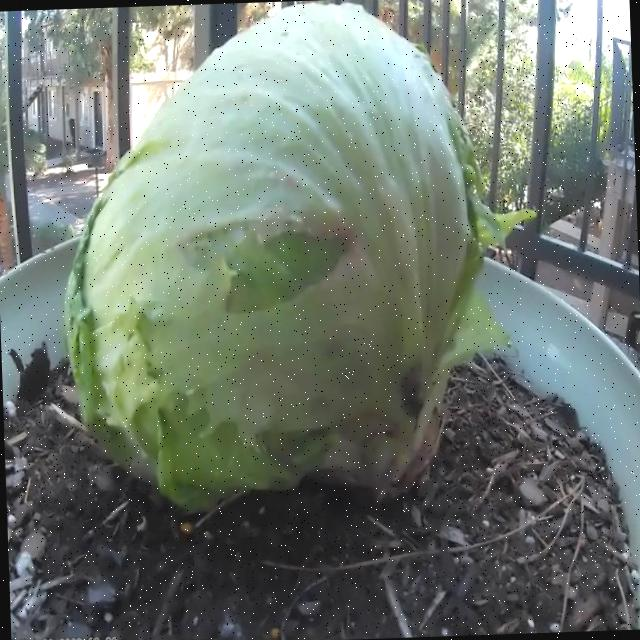cabbage: (49, 0, 499, 522)
